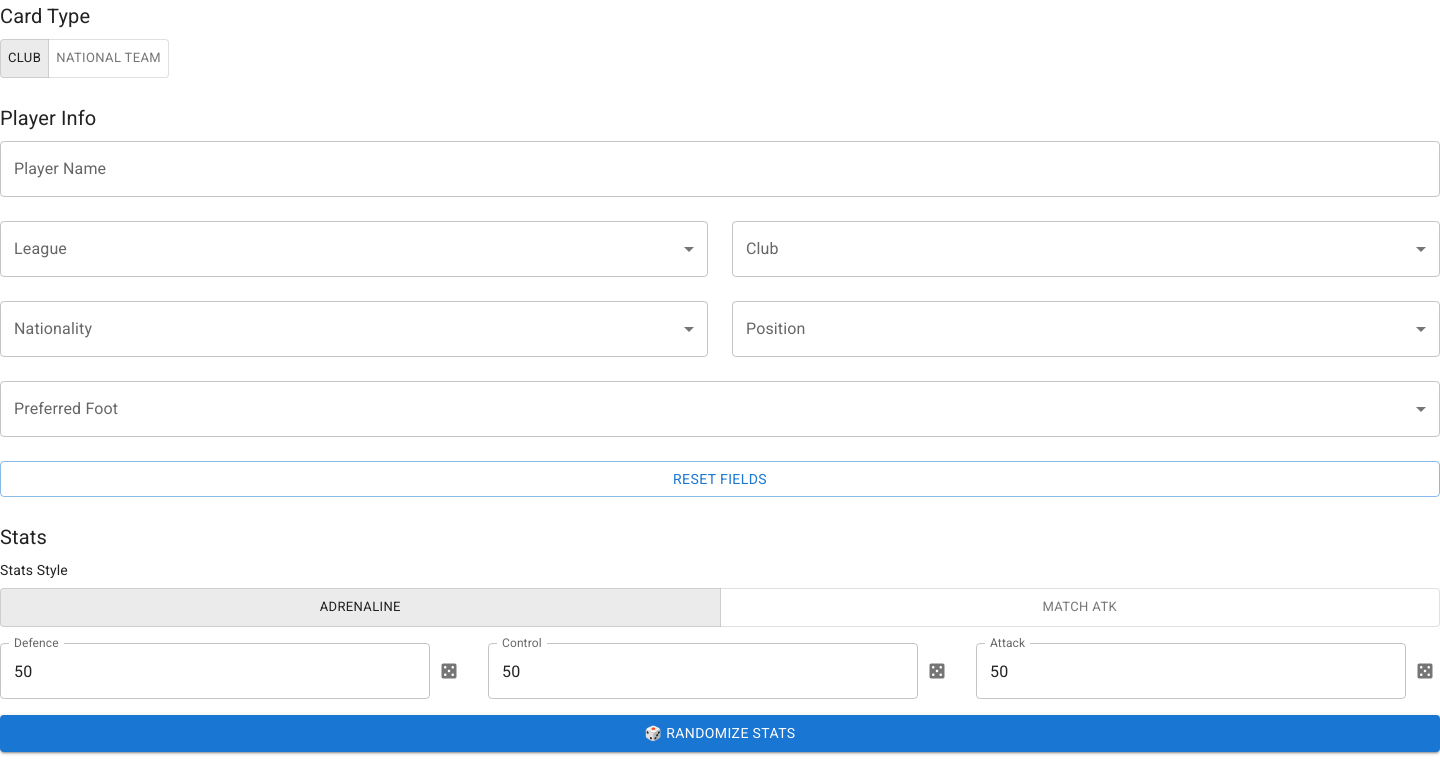
Test: CardForm Component › selecting "Other" option reveals custom club name input
Press the mouse on the dropdown named "Club": (1086, 249) [732,221,1439,277]
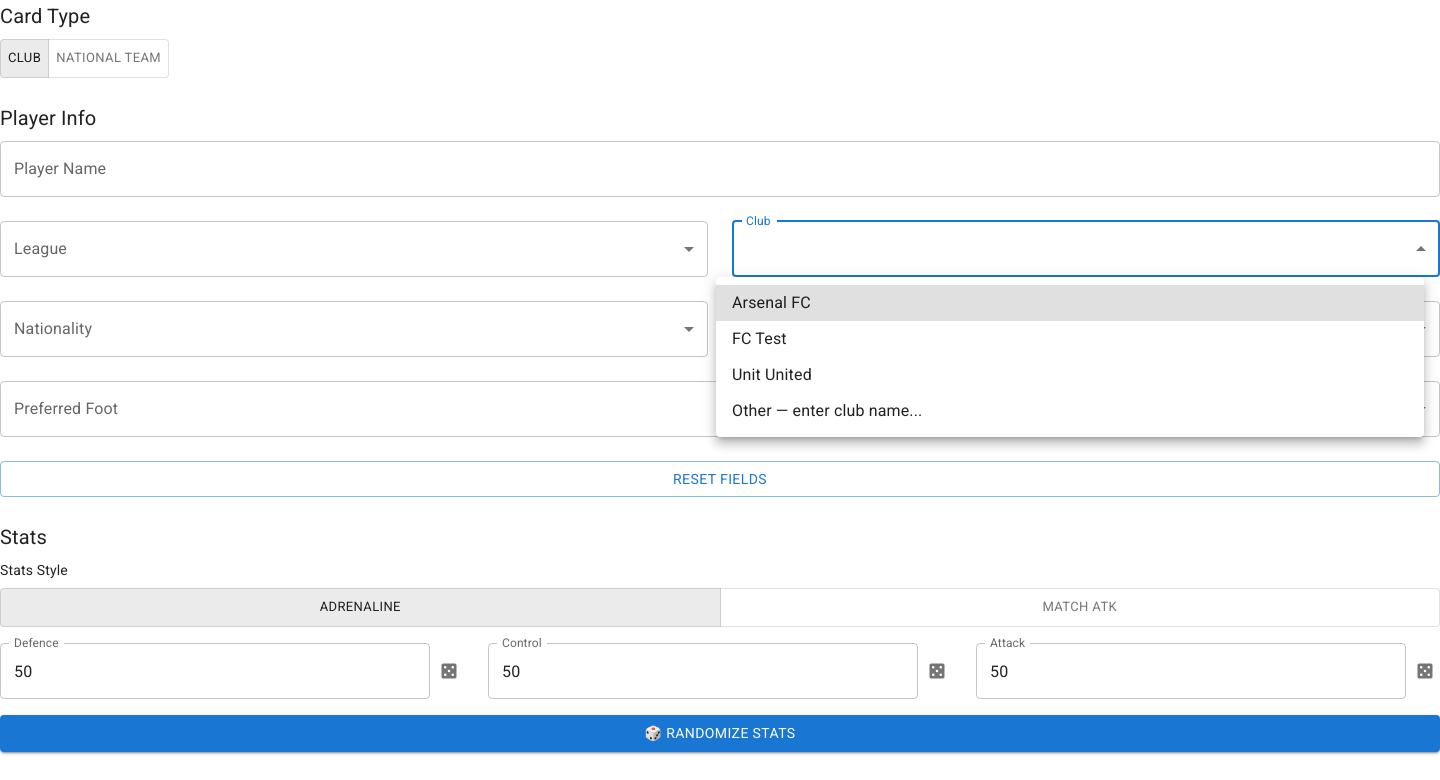
Click the option "Other — enter club name...": (827, 410) [732,401,922,420]
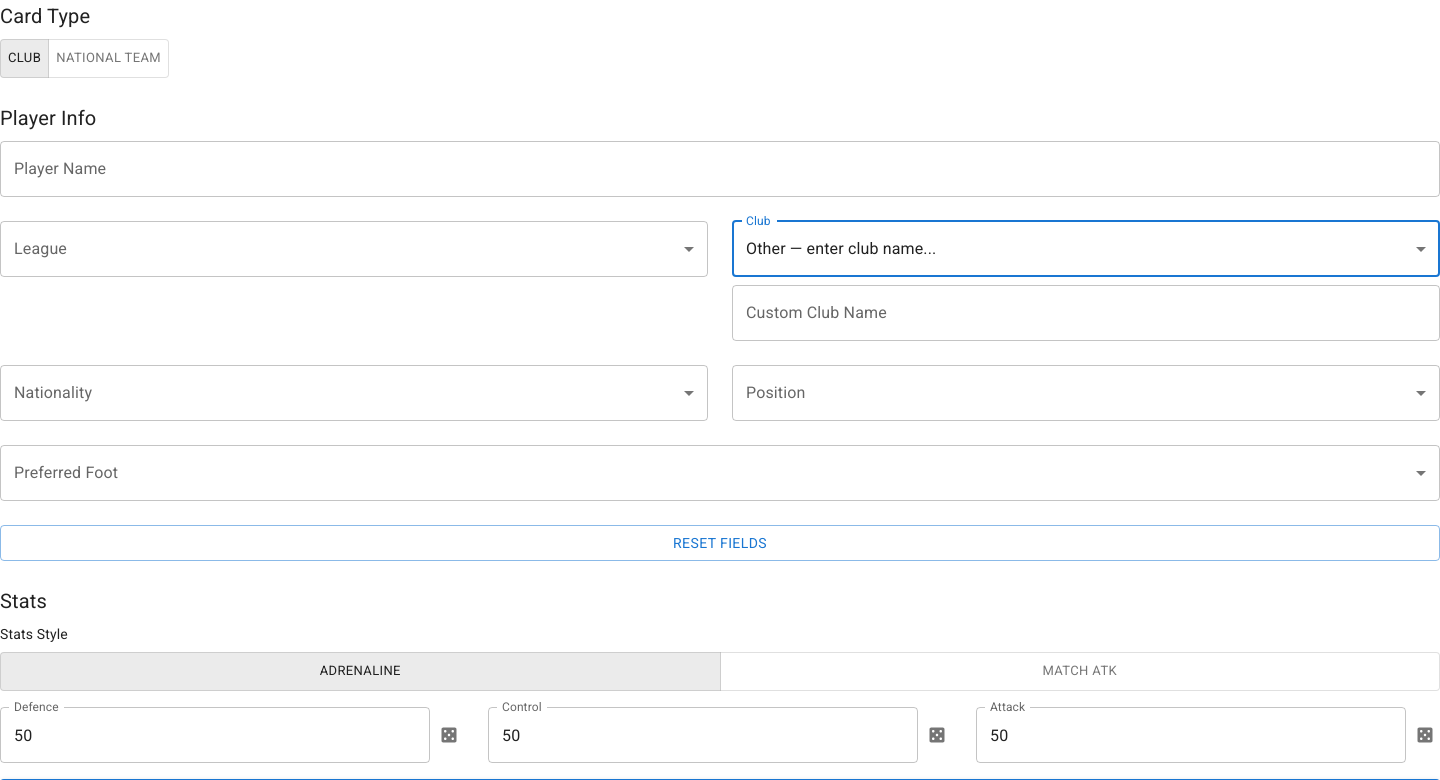
expect the field with test id "custom-club-input" is shown: met, box [732,285,1439,341]
